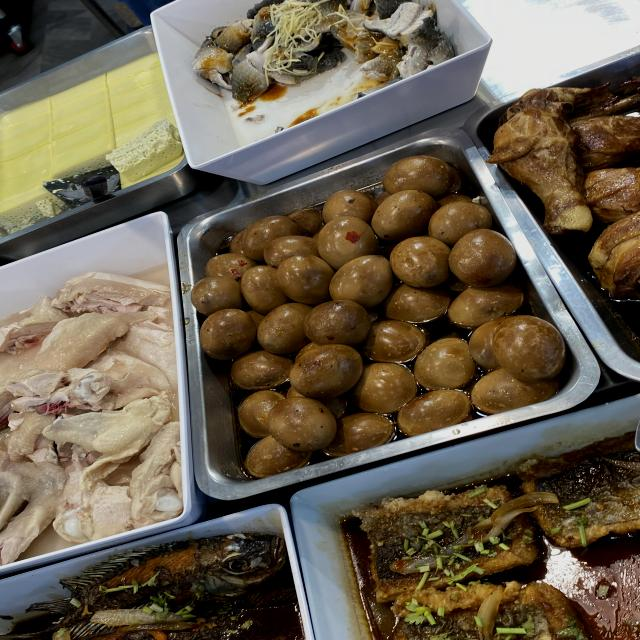braised egg: (236, 232, 484, 409)
